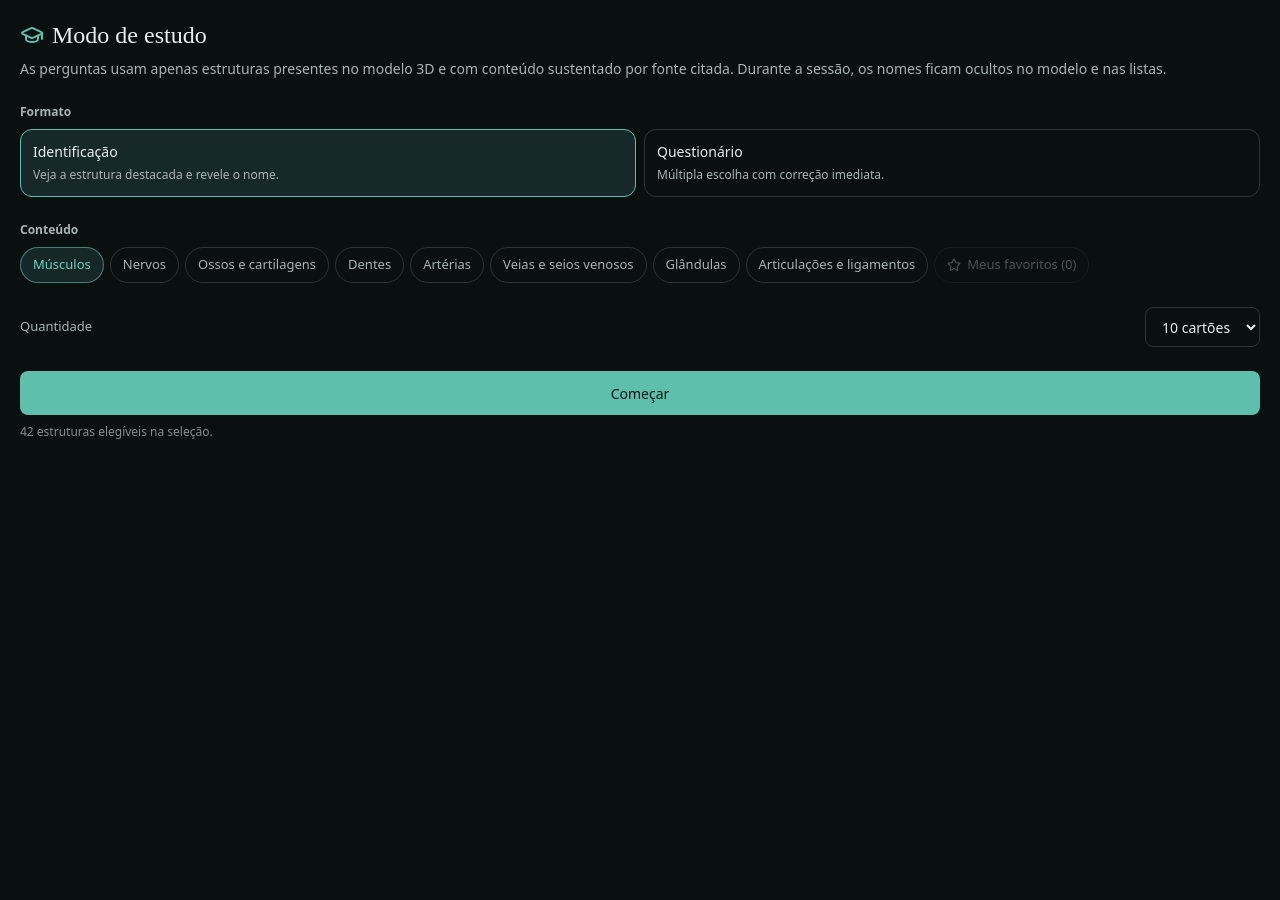
Scenario: modo de estudo (interface) › questionário dá feedback após a resposta
Click the radio button labelled "Questionário Múltipla escolha com correção imediata.".
click(700, 152)  # box [644,129,1260,197]
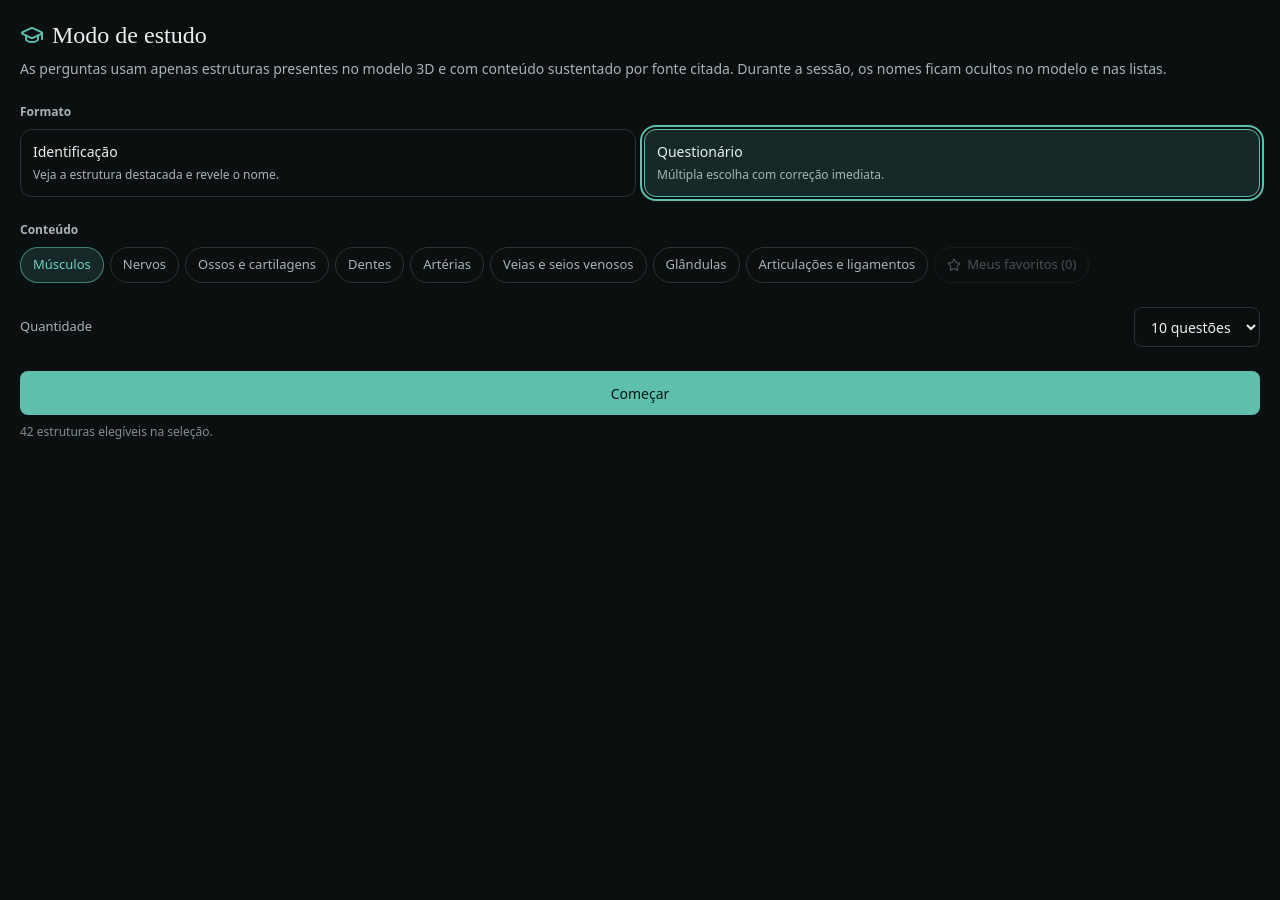
Click the button "Começar".
click(640, 393)  # box [20,371,1260,415]
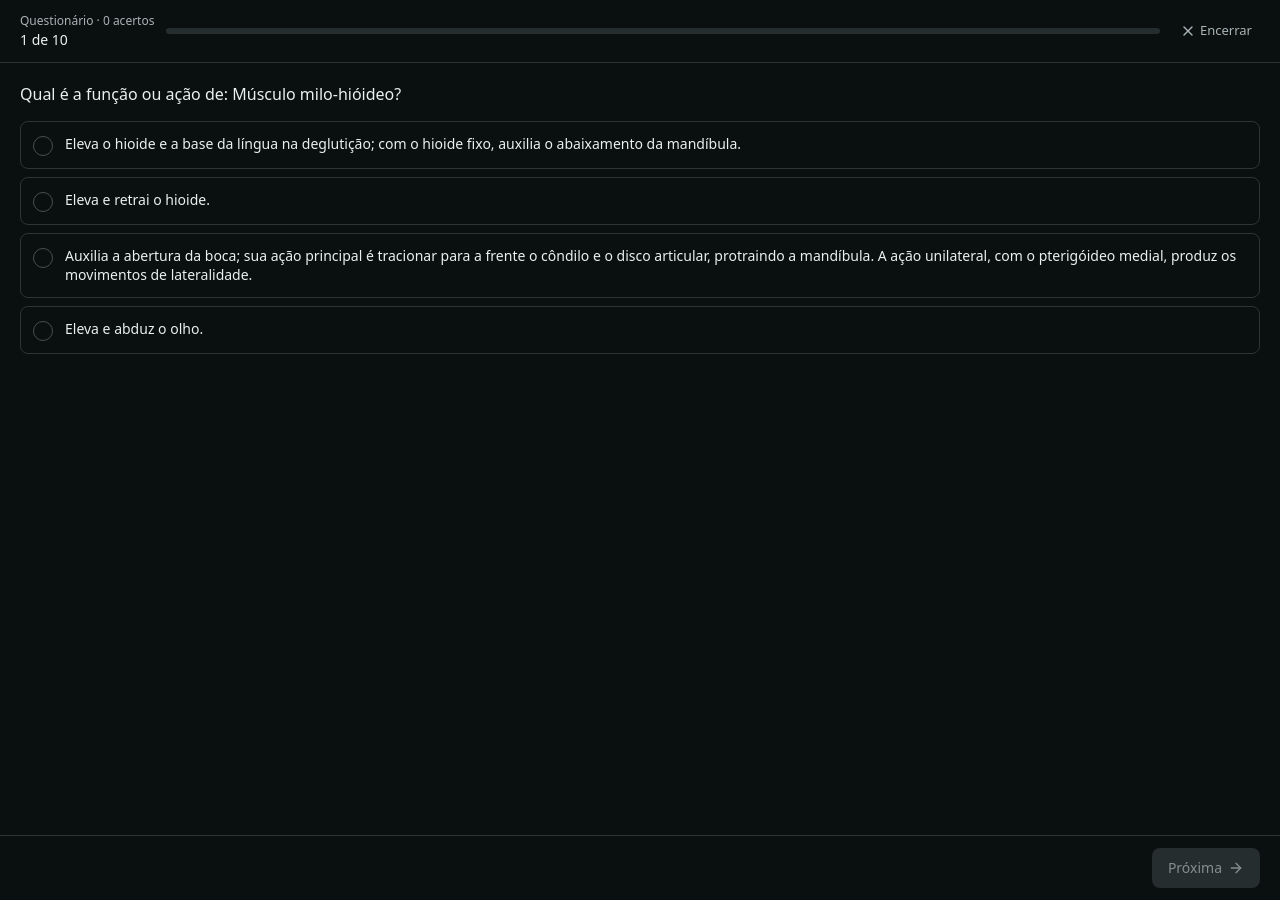
Click the 2nd button.
click(640, 145)  # box [20,121,1260,169]
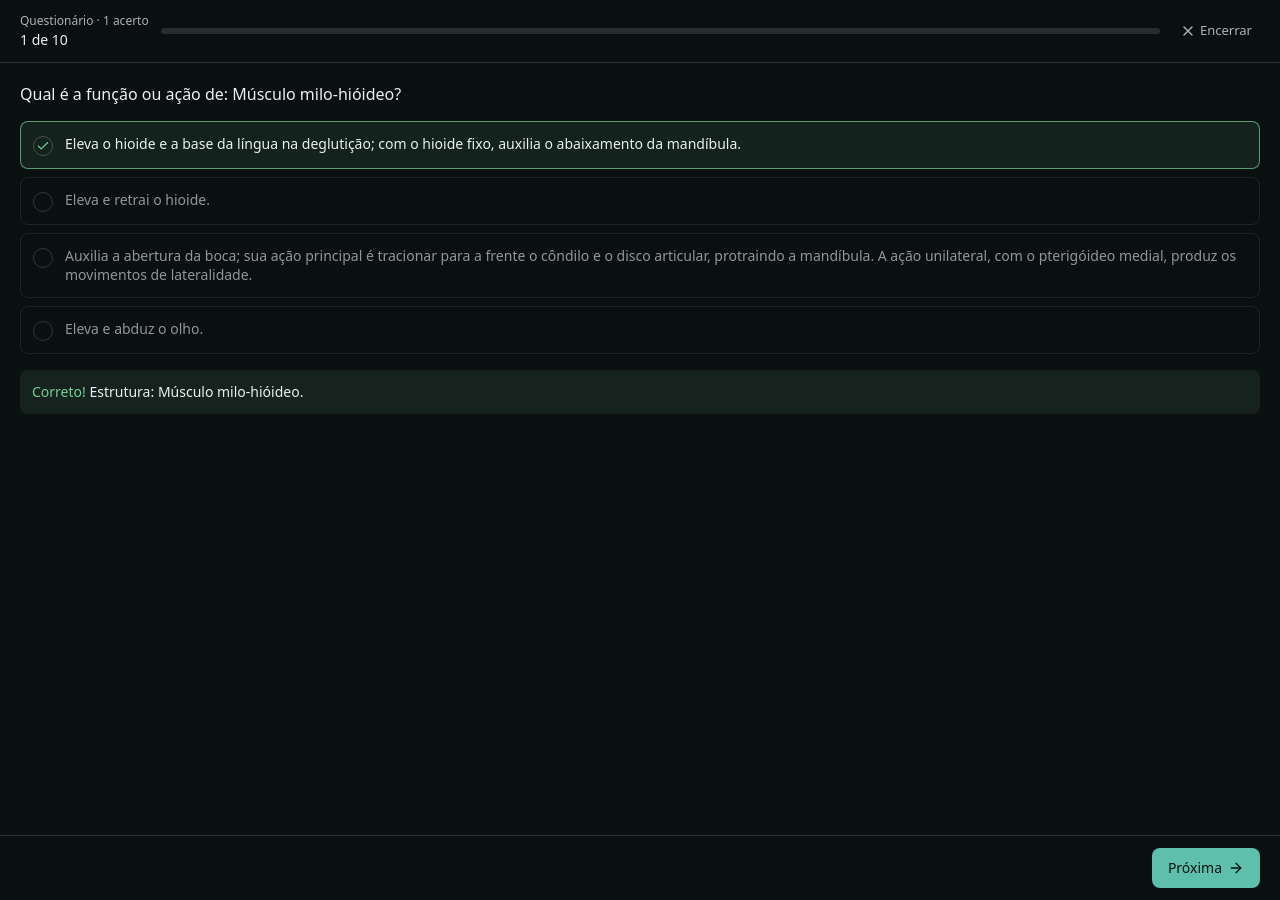
Check: the message reads "Correto! Estrutura: Músculo milo-hióideo.", box [32,382,86,400]
